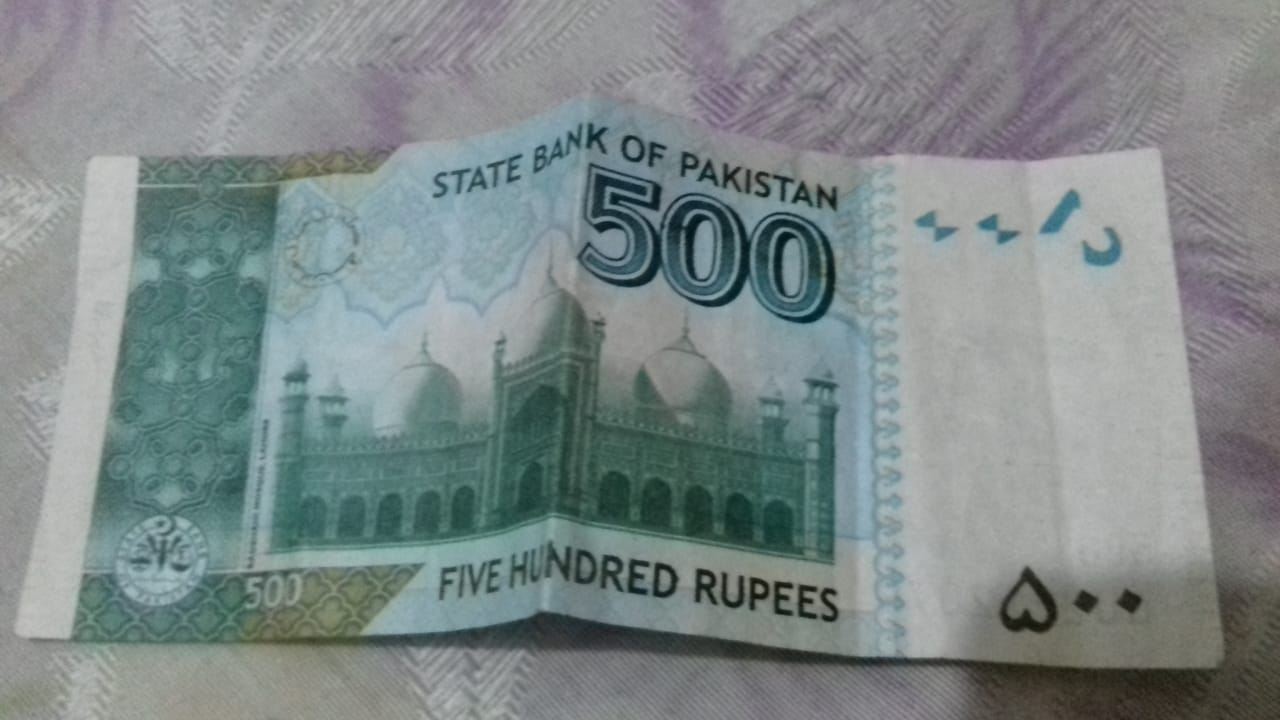500 rupee: (45, 109, 1246, 704)
